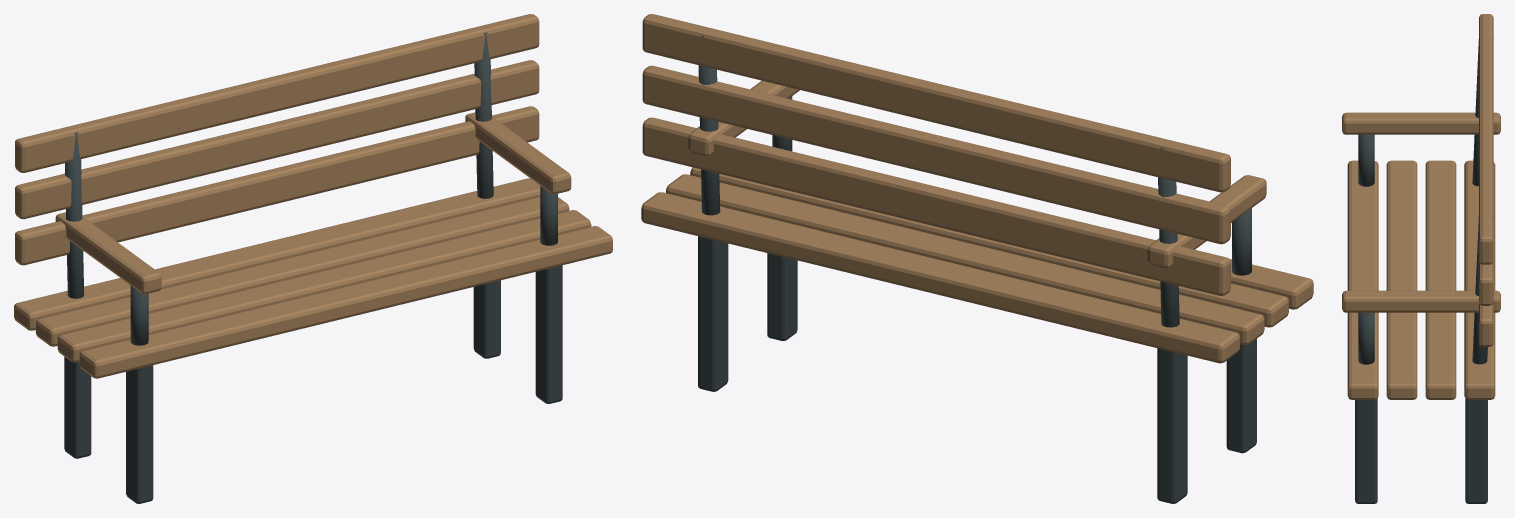
The model's file is site-bench.glb.
The picture shows the model from 3 angles, left to right: view 1: azimuth 30°, elevation 25°; view 2: azimuth 150°, elevation 25°; view 3: azimuth 270°, elevation 25°; orthographic projection. The views are drawn at different scales.
Parts seen in each view (by area): view 1: site-bench_Weathered_warm_teak, site-bench_Anthracite_anodized_metal; view 2: site-bench_Weathered_warm_teak, site-bench_Anthracite_anodized_metal; view 3: site-bench_Weathered_warm_teak, site-bench_Anthracite_anodized_metal.
Boxes of the visible parts, x1,y1,x2,y2 form: site-bench_Weathered_warm_teak: (14, 14, 612, 378); site-bench_Anthracite_anodized_metal: (64, 32, 562, 503); site-bench_Weathered_warm_teak: (641, 14, 1313, 363); site-bench_Anthracite_anodized_metal: (698, 35, 1256, 503); site-bench_Weathered_warm_teak: (1342, 14, 1500, 399); site-bench_Anthracite_anodized_metal: (1355, 38, 1493, 503).
Size of the model in its own units: 1.65 by 0.9775 by 0.49.
